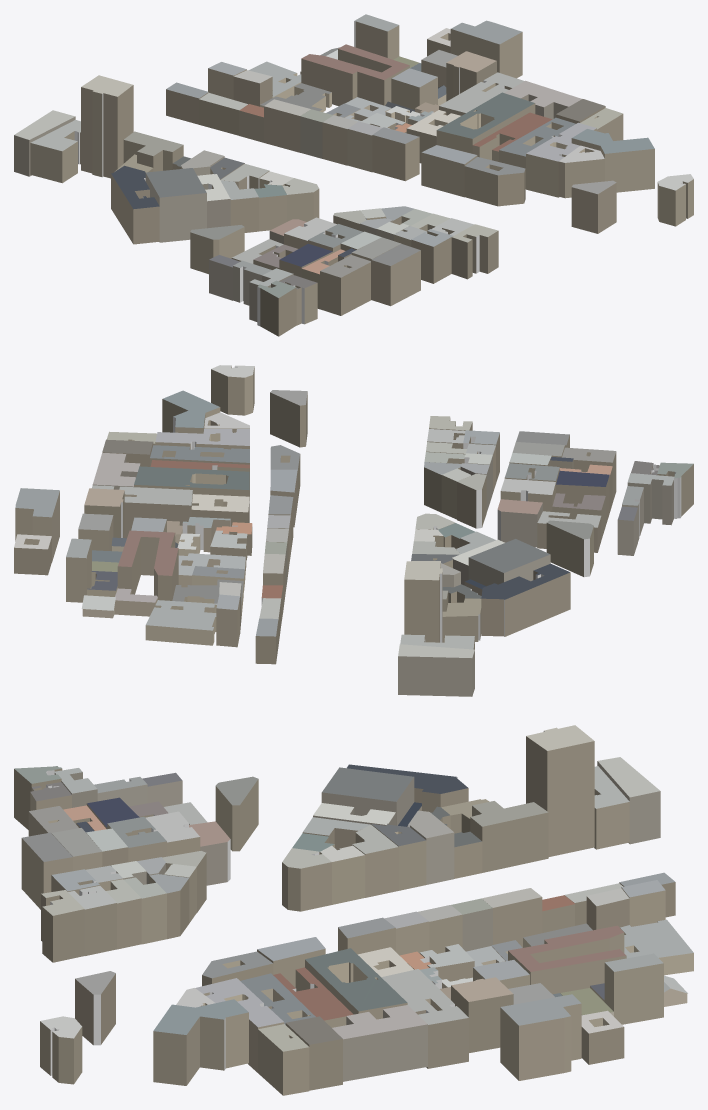
3 views of the same model, one above another, from view 1: azimuth 30°, elevation 25°; view 2: azimuth 150°, elevation 25°; view 3: azimuth 270°, elevation 25° (orthographic). The views are drawn at different scales.
Visible parts, largest first — view 1: tuile; view 2: tuile; view 3: tuile.
Boxes of the visible parts, x1=… form: tuile: x1=14, y1=14, x2=693, y2=336; tuile: x1=14, y1=365, x2=693, y2=696; tuile: x1=14, y1=725, x2=693, y2=1095.
Bounding box in the file's own units: 278 × 48.29 × 269.
